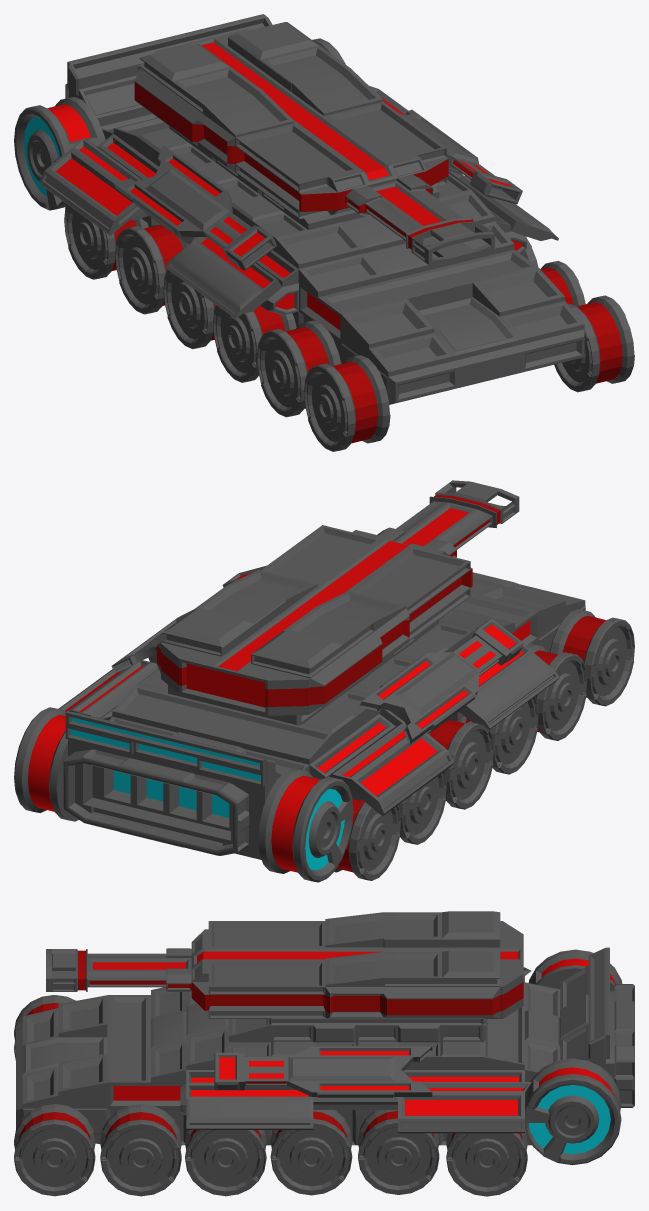
The model's file is S_TANK_4_FINAL.fbx.
3 views of the same model, one above another, from view 1: azimuth 30°, elevation 25°; view 2: azimuth 150°, elevation 25°; view 3: azimuth 270°, elevation 25° (orthographic). The views are drawn at different scales.
Visible parts, largest first — view 1: pCube1, pCube2, pCylinder16, pCylinder1, pCylinder21, pCylinder22, pCylinder18, pCylinder15, pCylinder5, pCylinder17, pCylinder23; view 2: pCube1, pCube2, pCylinder1, pCylinder16, pCylinder4, pCylinder17, pCylinder21, pCylinder5, pCylinder15, pCylinder18; view 3: pCube1, pCube2, pCylinder4, pCylinder22, pCylinder23, pCylinder25, pCylinder26, pCylinder24, pCylinder27, pCylinder1, pCylinder16.
Part boxes in pixels (left/top/right/bottom): pCube1: left=39, top=14, right=584, bottom=404; pCube2: left=134, top=22, right=494, bottom=264; pCylinder16: left=304, top=355, right=390, bottom=451; pCylinder1: left=14, top=96, right=105, bottom=210; pCylinder21: left=257, top=320, right=341, bottom=417; pCylinder22: left=554, top=295, right=634, bottom=392; pCylinder18: left=115, top=225, right=187, bottom=314; pCylinder15: left=213, top=305, right=296, bottom=382; pCylinder5: left=64, top=204, right=148, bottom=279; pCylinder17: left=163, top=269, right=215, bottom=349; pCylinder23: left=540, top=261, right=585, bottom=306; pCube1: left=58, top=565, right=585, bottom=859; pCube2: left=157, top=480, right=519, bottom=715; pCylinder1: left=258, top=768, right=353, bottom=882; pCylinder16: left=549, top=609, right=634, bottom=706; pCylinder4: left=14, top=707, right=78, bottom=821; pCylinder17: left=429, top=720, right=493, bottom=809; pCylinder21: left=525, top=643, right=587, bottom=740; pCylinder5: left=334, top=799, right=400, bottom=880; pCylinder15: left=456, top=696, right=538, bottom=774; pCylinder18: left=398, top=771, right=446, bottom=844; pCube1: left=16, top=947, right=634, bottom=1145; pCube2: left=46, top=911, right=523, bottom=1018; pCylinder4: left=525, top=1058, right=621, bottom=1165; pCylinder22: left=14, top=1104, right=95, bottom=1196; pCylinder23: left=100, top=1104, right=181, bottom=1196; pCylinder25: left=270, top=1110, right=352, bottom=1195; pCylinder26: left=358, top=1110, right=439, bottom=1194; pCylinder24: left=185, top=1130, right=266, bottom=1196; pCylinder27: left=446, top=1129, right=527, bottom=1196; pCylinder1: left=528, top=949, right=622, bottom=990; pCylinder16: left=14, top=995, right=75, bottom=1060.
Size of the model in its own units: 474 by 267 by 809.
